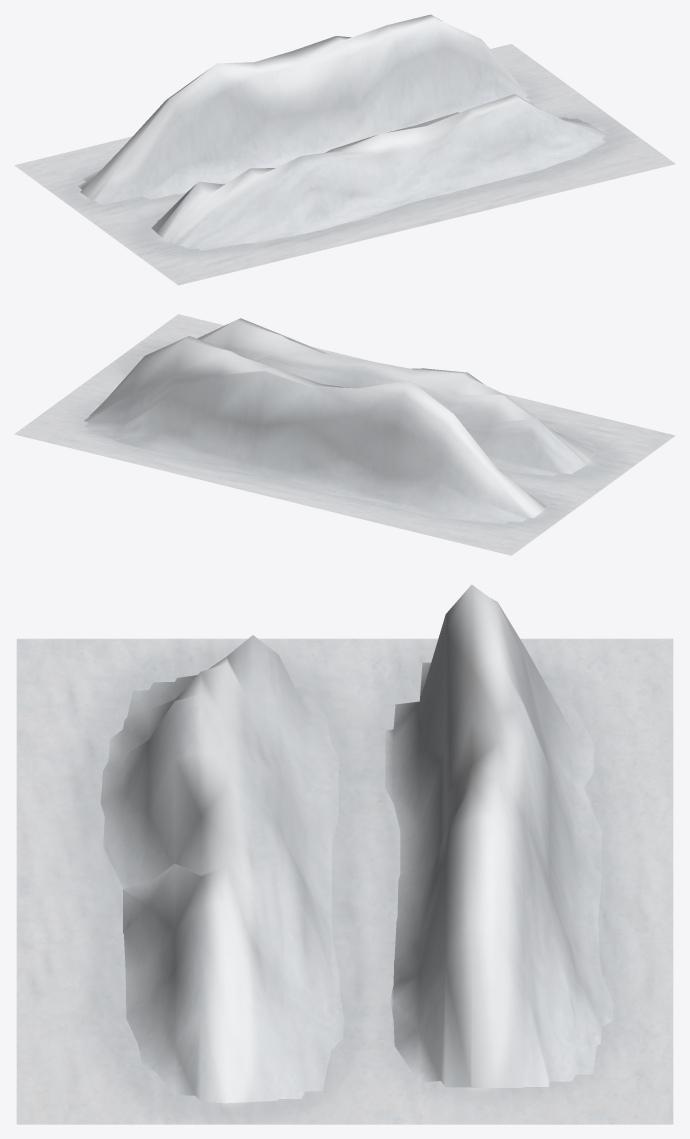
Rendered from mountain04.FBX.
The picture shows the model from 3 angles, top to bottom: view 1: azimuth 30°, elevation 25°; view 2: azimuth 150°, elevation 25°; view 3: azimuth 270°, elevation 25°; orthographic projection. The views are drawn at different scales.
Parts seen in each view (by area): view 1: RD4; view 2: RD4; view 3: RD4.
Boxes of the visible parts, <box> form: RD4: <box>14,14,675,285</box>; RD4: <box>14,314,675,555</box>; RD4: <box>16,584,673,1124</box>.
Size of the model in its own units: 700 by 137 by 400.
1 material, 1 textured.
